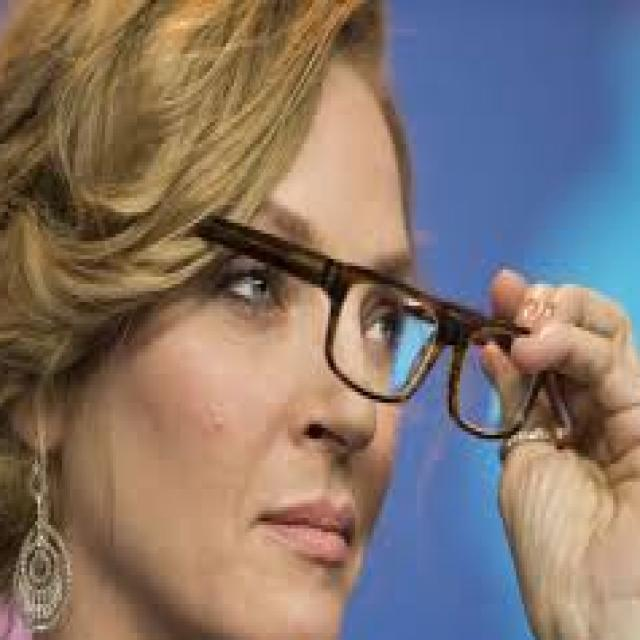Glasses: (119, 183, 552, 446)
